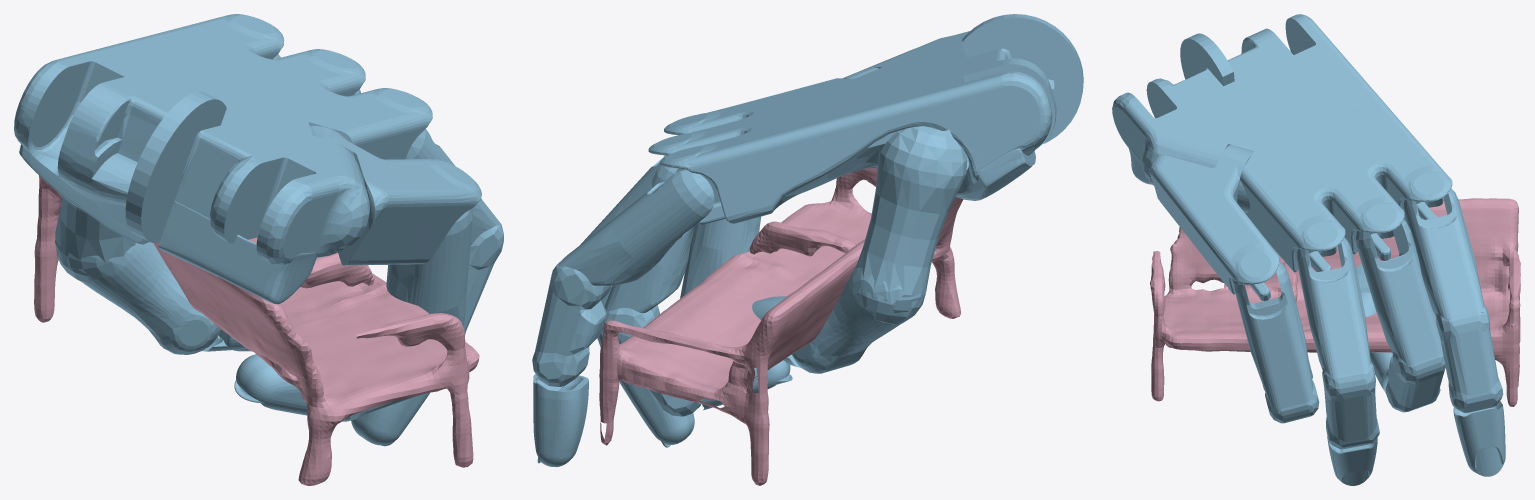
3 views of the same model, side by side, from view 1: azimuth 30°, elevation 25°; view 2: azimuth 150°, elevation 25°; view 3: azimuth 270°, elevation 25° (orthographic). The views are drawn at different scales.
Parts seen in each view (by area): view 1: hand_isaac_q, world; view 2: hand_isaac_q, world; view 3: hand_isaac_q, world.
Boxes of the visible parts, x1,y1,x2,y2 form: hand_isaac_q: (14,14,503,446); world: (34,175,479,485); hand_isaac_q: (532,14,1083,467); world: (599,166,963,485); hand_isaac_q: (1112,14,1505,485); world: (1150,198,1520,406).
Size of the model in its own units: 0.1464 by 0.1351 by 0.1445.
